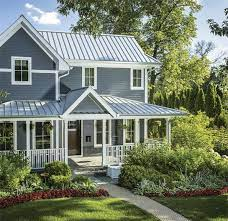Tin-shade House: (3, 14, 187, 187)
